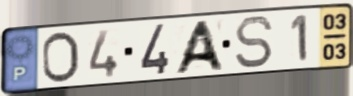1: (288, 13, 309, 64)
4: (138, 22, 172, 77), (87, 27, 122, 80)
A: (170, 18, 227, 75)
O: (40, 30, 82, 86)
S: (233, 14, 276, 70)
